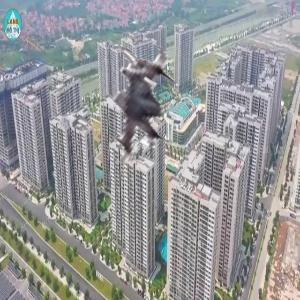drone: (63, 35, 201, 173)
